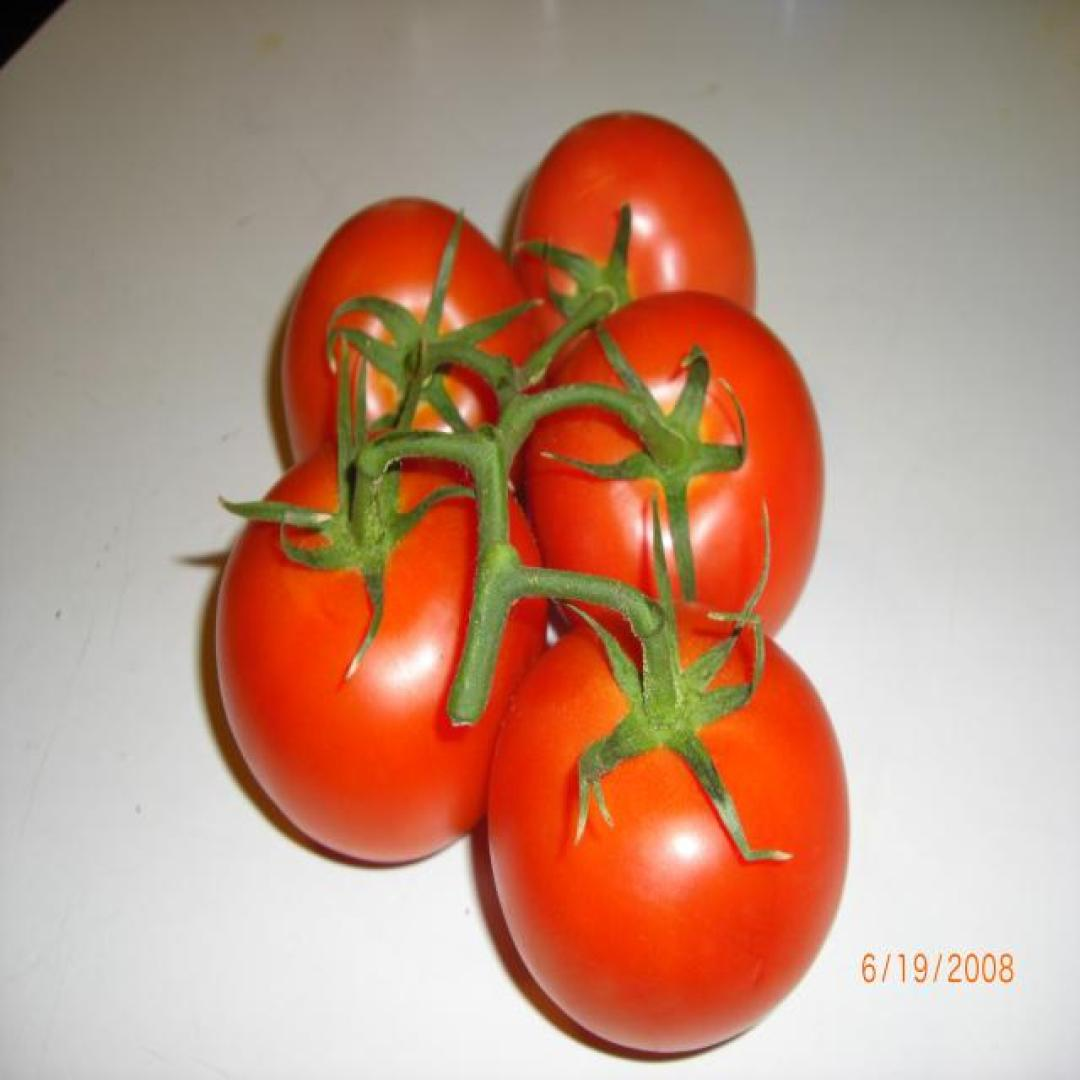matang: (488, 599, 851, 1050), (215, 428, 548, 866), (527, 290, 825, 670), (282, 199, 547, 535), (509, 110, 758, 422)
